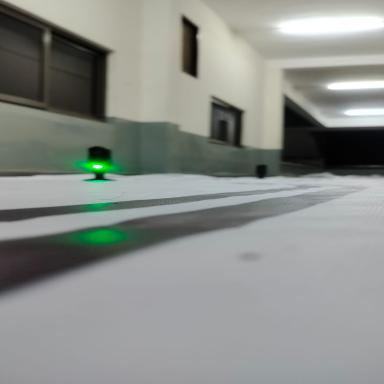green: (43, 134, 138, 184)
